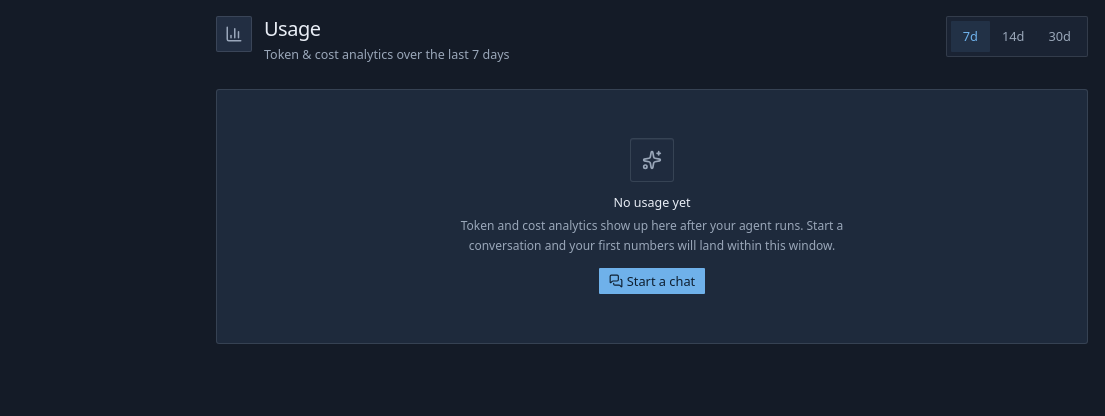
Test: UsageRoute – period in the URL › writes the chosen window into `?period=` when the selector changes
Note: Click the 14-day segment.
Click the radio button labelled "14d" at (1013, 37), box [990,21,1036,52]
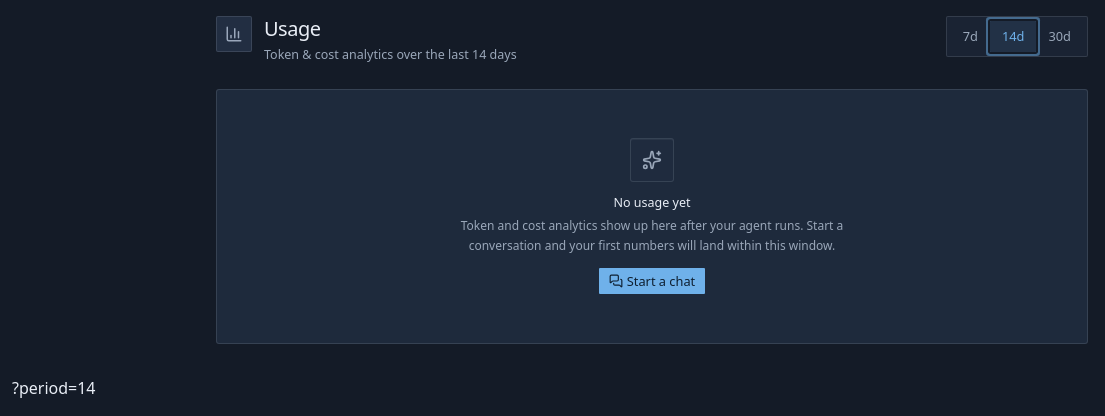
Expected: the text with test id "search" shows "period=14", [12,377,96,399]
